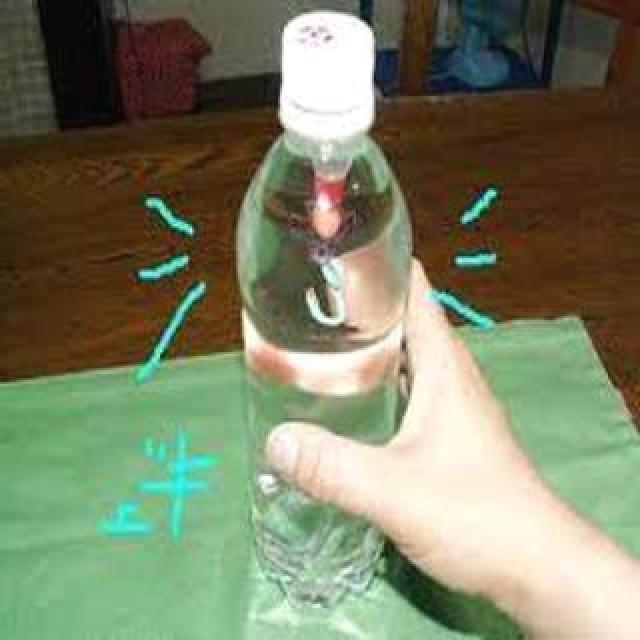Pet_Bottle: (243, 12, 401, 610)
